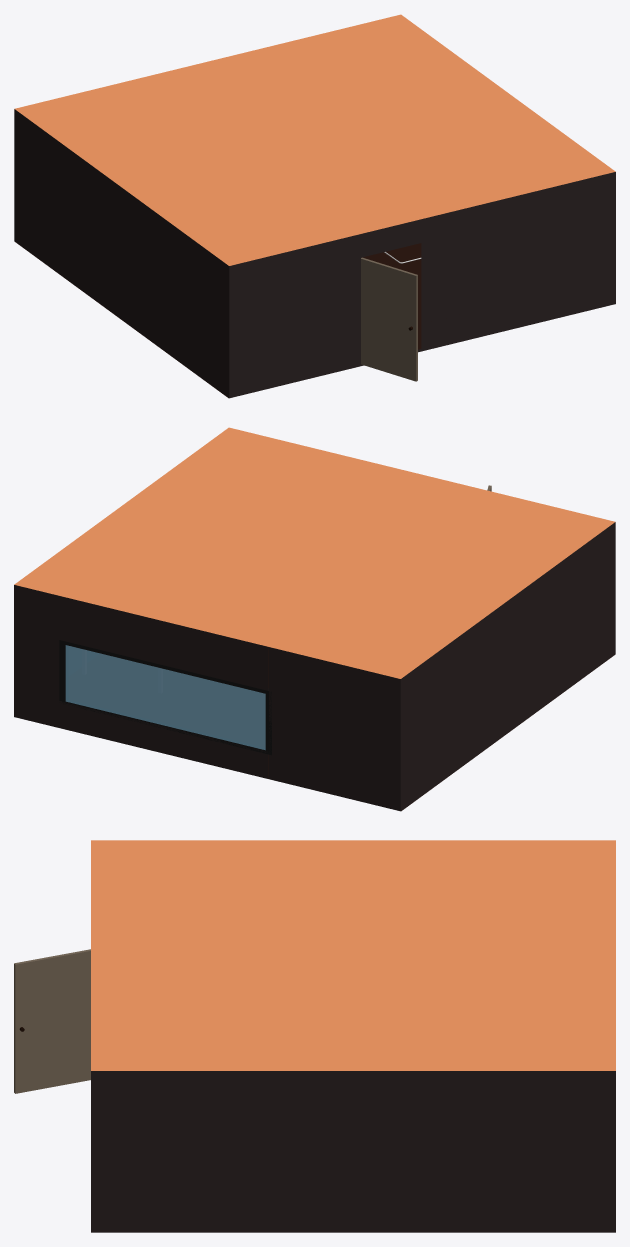
Rendered from oda.fbx.
3 renders of one model, top to bottom at view 1: azimuth 30°, elevation 25°; view 2: azimuth 150°, elevation 25°; view 3: azimuth 270°, elevation 25°, orthographic. The views are drawn at different scales.
Parts seen in each view (by area): view 1: Rectangle001, Object003, Box069, Box063; view 2: Rectangle001, Object003, cam003, Plane005, Box063; view 3: Rectangle001, Object003, Box069.
Boxes of the visible parts, bbox=[...] form: Rectangle001: bbox=[14, 14, 615, 265]; Object003: bbox=[14, 109, 615, 398]; Box069: bbox=[361, 257, 417, 381]; Box063: bbox=[14, 241, 421, 398]; Rectangle001: bbox=[14, 427, 615, 678]; Object003: bbox=[14, 522, 615, 811]; cam003: bbox=[65, 645, 265, 750]; Plane005: bbox=[59, 640, 271, 755]; Box063: bbox=[69, 647, 615, 811]; Rectangle001: bbox=[91, 840, 615, 1070]; Object003: bbox=[91, 1071, 615, 1232]; Box069: bbox=[14, 949, 90, 1093].
Size of the model in its own units: 6.22 by 2.03 by 6.86.
